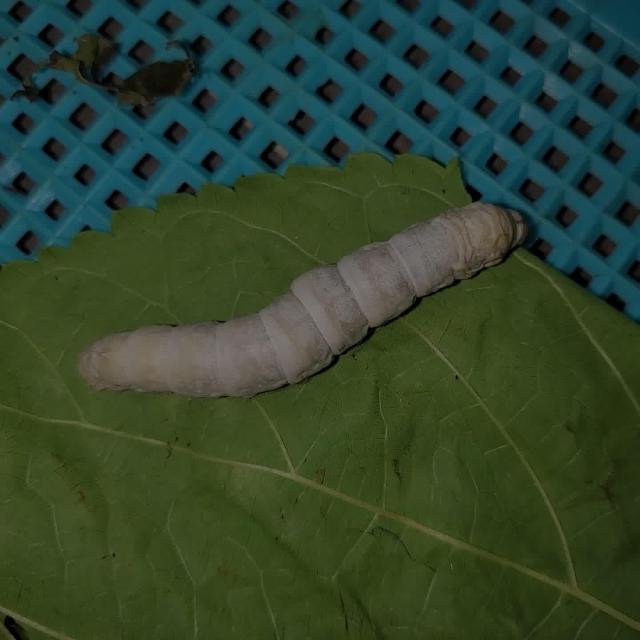Grasserie: (45, 174, 555, 436)
